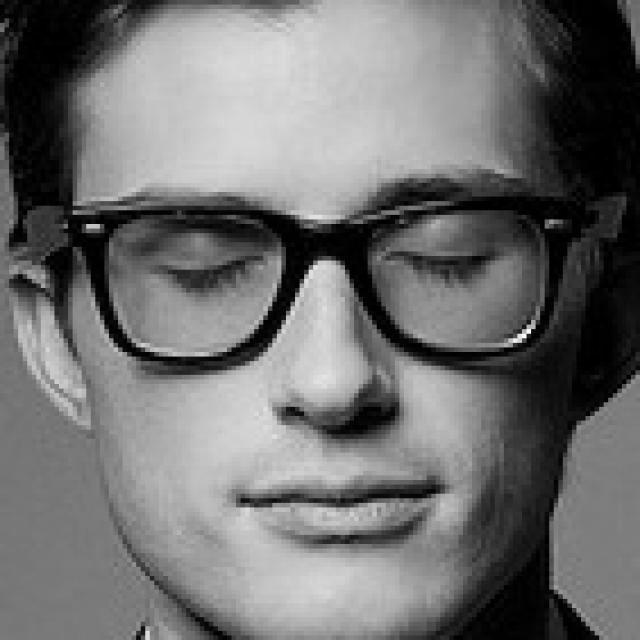real: (67, 56, 604, 624), (90, 196, 536, 338)
